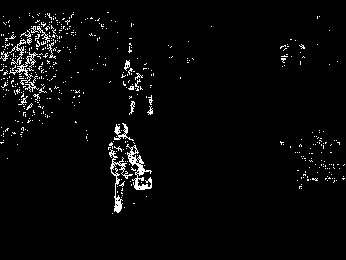person: (108, 122, 150, 214), (122, 60, 140, 114)
